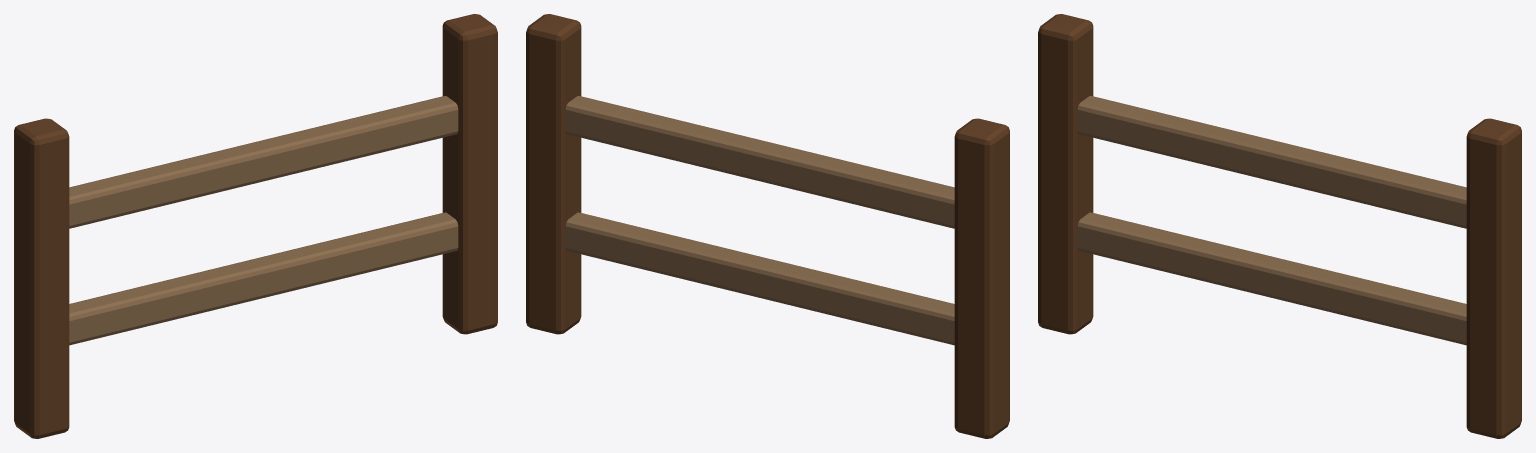
File: fence_2m.glb
3 renders of one model, left to right at view 1: azimuth 30°, elevation 25°; view 2: azimuth 150°, elevation 25°; view 3: azimuth 330°, elevation 25°, orthographic.
Parts seen in each view (by area): view 1: fence_2m_left_post, fence_2m_rail_01, fence_2m_rail_02, fence_2m_right_post; view 2: fence_2m_left_post, fence_2m_rail_01, fence_2m_rail_02, fence_2m_right_post; view 3: fence_2m_right_post, fence_2m_rail_01, fence_2m_rail_02, fence_2m_left_post.
Boxes of the visible parts, box(x1,y1,x2,y2) form: fence_2m_left_post: box(14, 118, 69, 438); fence_2m_rail_01: box(69, 212, 458, 345); fence_2m_rail_02: box(69, 96, 458, 228); fence_2m_right_post: box(442, 14, 497, 334); fence_2m_left_post: box(954, 118, 1009, 438); fence_2m_rail_01: box(565, 212, 954, 345); fence_2m_rail_02: box(565, 96, 954, 228); fence_2m_right_post: box(526, 14, 581, 334); fence_2m_right_post: box(1466, 118, 1521, 438); fence_2m_rail_01: box(1077, 212, 1466, 345); fence_2m_rail_02: box(1077, 96, 1466, 228); fence_2m_left_post: box(1038, 14, 1093, 334).
Bounding box in the file's own units: 2.18 × 1.35 × 0.18.
